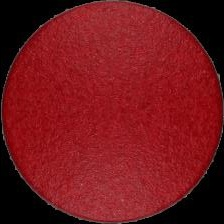50436-5891: (0, 0, 224, 224)
